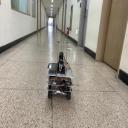cart: (47, 66, 74, 100)
